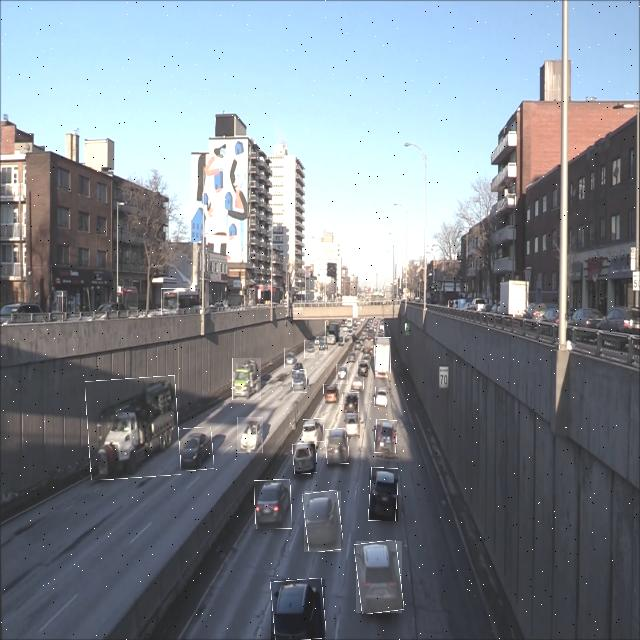Bus: (161, 288, 200, 315)
Car: (271, 579, 325, 640), (357, 541, 402, 613), (304, 491, 341, 552), (254, 480, 292, 529), (176, 428, 214, 471), (369, 468, 398, 521), (237, 417, 263, 453), (326, 429, 348, 464), (375, 420, 396, 453), (293, 444, 316, 474), (304, 419, 324, 442), (342, 392, 359, 413), (345, 413, 359, 437), (293, 370, 307, 393), (324, 384, 339, 404), (284, 348, 297, 368), (336, 364, 348, 384), (375, 387, 386, 407), (352, 375, 364, 391), (304, 341, 315, 358), (357, 361, 368, 377), (320, 336, 328, 354)
Truck: (86, 376, 180, 478), (232, 358, 261, 400), (375, 337, 391, 380), (325, 321, 340, 345)
